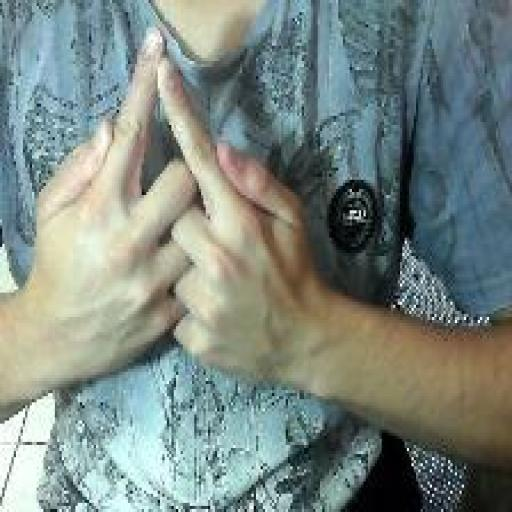Uma -horse-: (31, 24, 314, 406)
